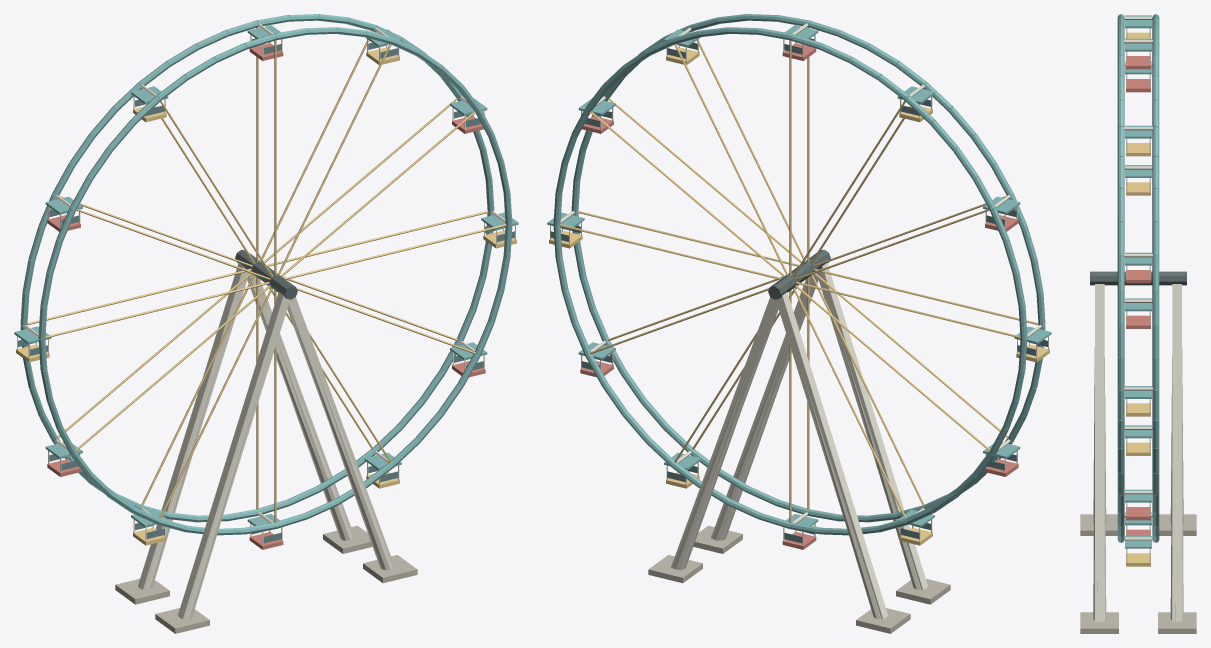
3 renders of one model, left to right at view 1: azimuth 30°, elevation 25°; view 2: azimuth 150°, elevation 25°; view 3: azimuth 270°, elevation 25°, orthographic. The views are drawn at different scales.
Bounding box in the file's own units: 56.7 × 62.07 × 12.
